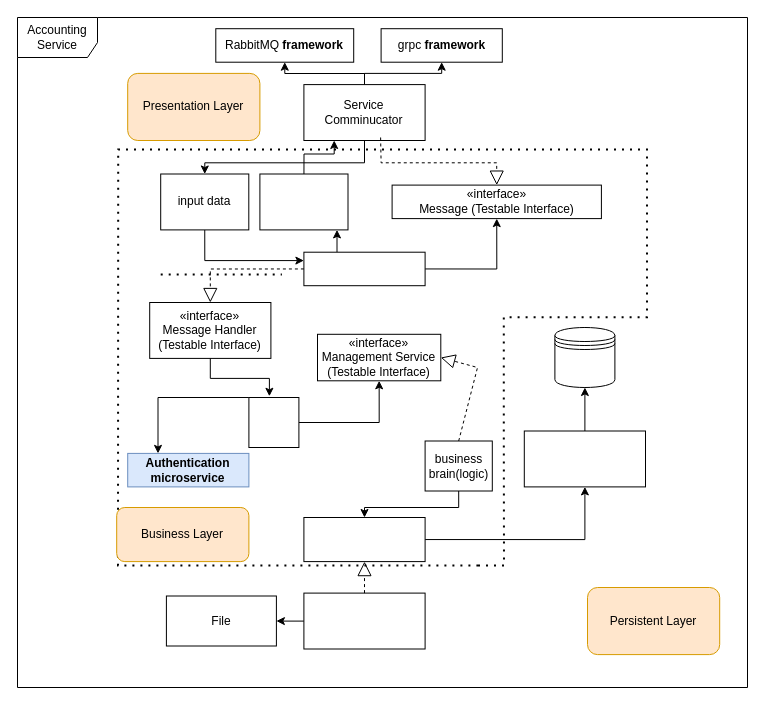
This 765x705 diagram has some shape labels left out. The centre of each missing label's shape, as x and y in pixels:
"Database Access" goes at [584,458].
"DB" goes at [584,357].
"Domain layer" goes at [273,422].
"File Access" goes at [364,620].
"infrastructure layer" goes at [364,539].
"Message Handler application layer" goes at [364,268].
"Output data" goes at [303,201].
